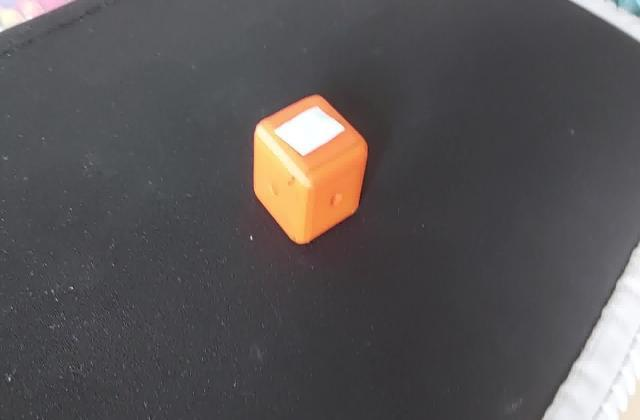sticker: (252, 92, 370, 248)
white: (272, 118, 344, 158)
